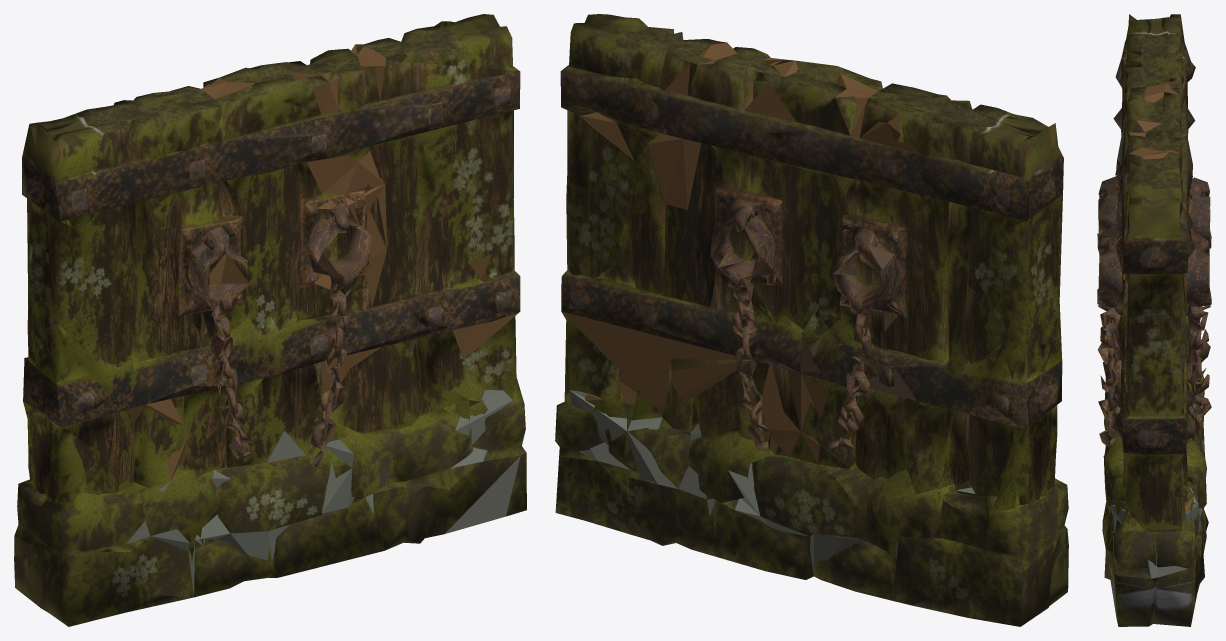
Rendered from prison-wall-fragments.glb.
3 views of the same model, side by side, from view 1: azimuth 30°, elevation 25°; view 2: azimuth 150°, elevation 25°; view 3: azimuth 270°, elevation 25° (orthographic). The views are drawn at different scales.
Parts seen in each view (by area): view 1: Plank_0_Upper, Plank_3_Upper, Plank_1_Upper, Plank_5_Upper, Plank_6_Upper, Plank_5_Lower, Plank_4_Upper, Plank_2_Upper, Plank_1_Lower, Stone_0_0, Plank_3_Lower, Plank_0_Lower (+24 smaller); view 2: Plank_0_Upper, Plank_5_Lower, Plank_3_Upper, Plank_6_Upper, Plank_1_Upper, Plank_2_Upper, Plank_4_Upper, Plank_5_Upper, Plank_1_Lower, Stone_0_0, Plank_0_Lower, Stone_1_2 (+24 smaller); view 3: Plank_6_Upper, Plank_6_Lower, Stone_1_4, Stone_0_4, Plank_1_Upper, Stone_1_3, Plank_3_Upper, Plank_4_Upper, Plank_5_Upper, Mount_front_R, Mount_back_R, Plank_2_Upper (+25 smaller).
Boxes of the visible parts, bbox=[...] form: Plank_0_Upper: bbox=[22, 109, 121, 382]; Plank_3_Upper: bbox=[202, 62, 337, 332]; Plank_1_Upper: bbox=[50, 89, 214, 361]; Plank_5_Upper: bbox=[357, 26, 519, 249]; Plank_6_Upper: bbox=[434, 14, 519, 279]; Plank_5_Lower: bbox=[347, 206, 468, 429]; Plank_4_Upper: bbox=[289, 44, 397, 313]; Plank_2_Upper: bbox=[154, 77, 272, 342]; Plank_1_Lower: bbox=[105, 258, 193, 492]; Stone_0_0: bbox=[14, 535, 193, 626]; Plank_3_Lower: bbox=[241, 237, 341, 463]; Plank_0_Lower: bbox=[23, 331, 115, 501]; Plank_0_Upper: bbox=[964, 108, 1063, 380]; Plank_5_Lower: bbox=[561, 192, 749, 432]; Plank_3_Upper: bbox=[744, 60, 877, 309]; Plank_6_Upper: bbox=[562, 14, 648, 278]; Plank_1_Upper: bbox=[869, 91, 1031, 358]; Plank_2_Upper: bbox=[815, 73, 940, 347]; Plank_4_Upper: bbox=[687, 42, 794, 322]; Plank_5_Upper: bbox=[617, 27, 736, 230]; Plank_1_Lower: bbox=[892, 241, 970, 493]; Stone_0_0: bbox=[899, 525, 1068, 626]; Plank_0_Lower: bbox=[968, 331, 1062, 514]; Stone_1_2: bbox=[722, 432, 857, 533]; Plank_6_Upper: bbox=[1123, 181, 1187, 416]; Plank_6_Lower: bbox=[1116, 396, 1193, 531]; Stone_1_4: bbox=[1107, 493, 1200, 583]; Stone_0_4: bbox=[1112, 569, 1195, 626]; Plank_1_Upper: bbox=[1124, 19, 1183, 86]; Stone_1_3: bbox=[1103, 441, 1206, 555]; Plank_3_Upper: bbox=[1098, 84, 1209, 288]; Plank_4_Upper: bbox=[1097, 120, 1197, 318]; Plank_5_Upper: bbox=[1123, 147, 1186, 279]; Mount_front_R: bbox=[1097, 235, 1122, 308]; Mount_back_R: bbox=[1186, 232, 1211, 306]; Plank_2_Upper: bbox=[1099, 58, 1210, 210].
Size of the model in its own units: 2 by 1.91 by 0.4708.
4 materials, 1 textured.
